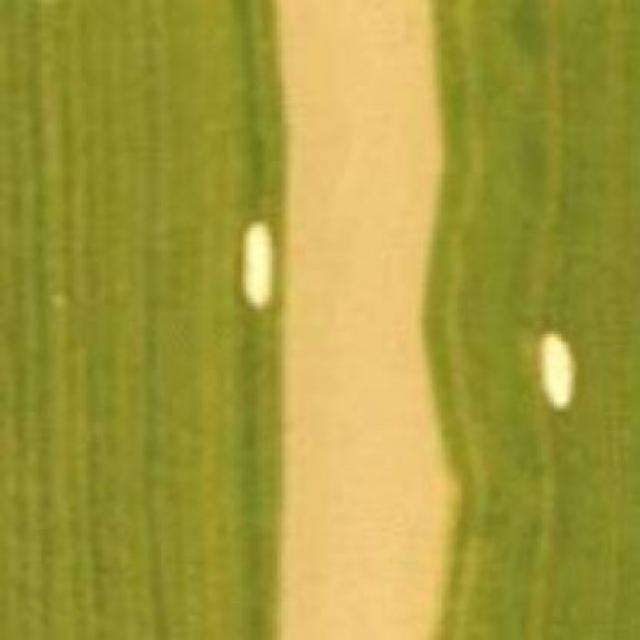whorl-maggot: (534, 325, 586, 417), (238, 217, 284, 312)
